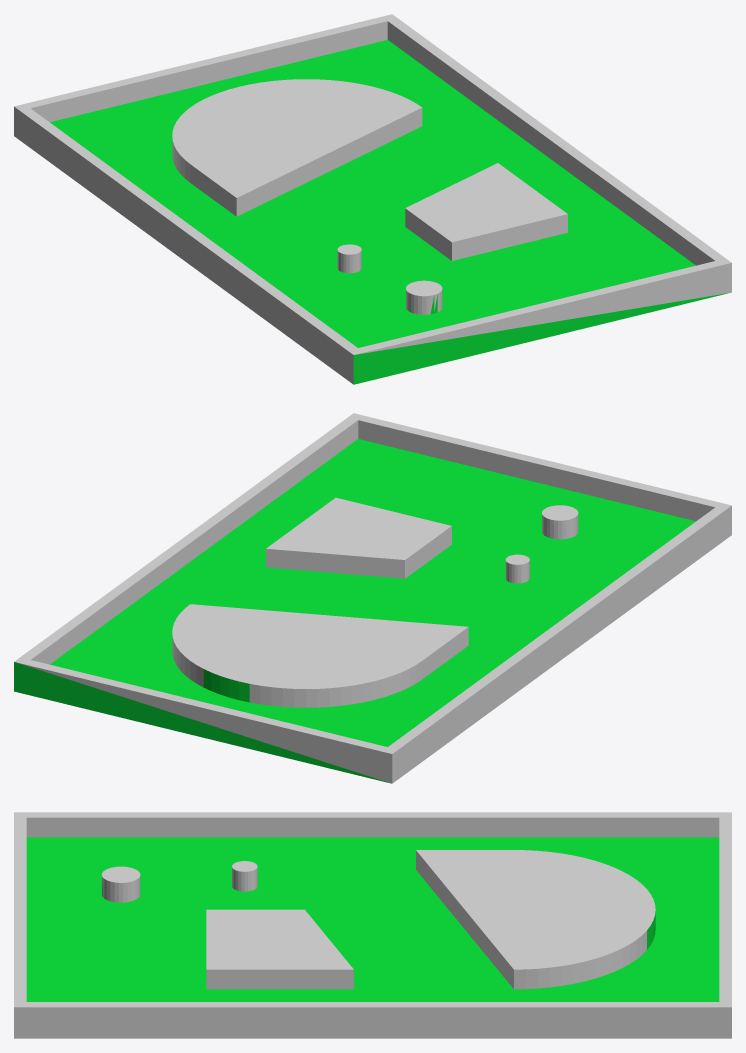
File: four_ws_stage.dae
3 renders of one model, top to bottom at view 1: azimuth 30°, elevation 25°; view 2: azimuth 150°, elevation 25°; view 3: azimuth 270°, elevation 25°, orthographic. The views are drawn at different scales.
Parts seen in each view (by area): view 1: Stage2; view 2: Stage2; view 3: Stage2.
Boxes of the visible parts, bbox=[...] form: Stage2: bbox=[14, 14, 731, 384]; Stage2: bbox=[14, 413, 731, 783]; Stage2: bbox=[14, 812, 731, 1038].
Size of the model in its own units: 3.6 by 5.6 by 0.27.
